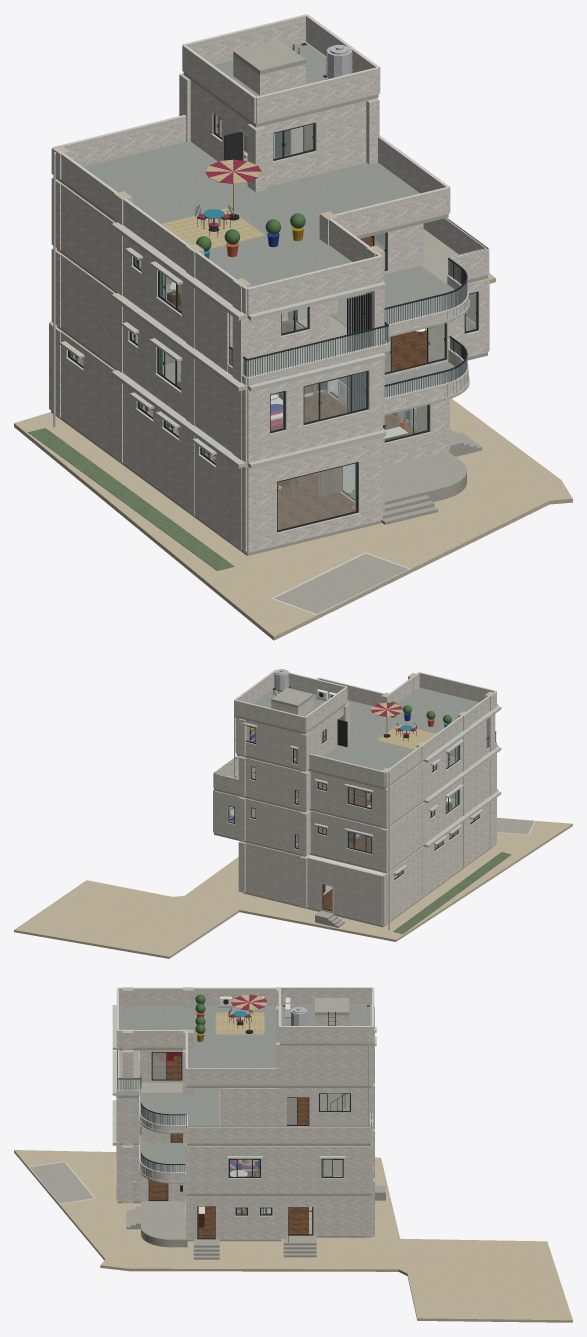
The model's file is eclectic.glb.
The picture shows the model from 3 angles, top to bottom: view 1: azimuth 30°, elevation 25°; view 2: azimuth 150°, elevation 25°; view 3: azimuth 270°, elevation 25°; orthographic projection. The views are drawn at different scales.
Visible parts, largest first — view 1: SITE_site_ground, FLOOR_1_wall_facade, FLOOR_4_floor_finish_terrace, FLOOR_2_wall_facade, FLOOR_4_parapet_facade, FLOOR_3_wall_facade, ROOF_parapet_facade, SITE_site_porch, FLOOR_4_wall_facade, FLOOR_1_window_glass, FLOOR_3_railing_metal, FLOOR_3_parapet_facade (+36 smaller); view 2: SITE_site_ground, FLOOR_1_wall_facade, FLOOR_2_wall_facade, FLOOR_3_wall_facade, FLOOR_4_floor_finish_terrace, FLOOR_4_parapet_facade, ROOF_parapet_facade, FLOOR_4_wall_facade, FLOOR_2_column_facade, FLOOR_3_column_facade, FLOOR_1_column_facade, FLOOR_4_column_facade (+22 smaller); view 3: SITE_site_ground, FLOOR_2_wall_facade, FLOOR_1_wall_facade, FLOOR_4_floor_finish_terrace, SITE_site_porch, FLOOR_3_wall_facade, FLOOR_4_parapet_facade, FLOOR_4_wall_facade, FLOOR_3_parapet_facade, ROOF_parapet_facade, FLOOR_3_floor_finish_terrace, FLOOR_3_slab_slab (+24 smaller).
Boxes of the visible parts, x1,y1,x2,y2 form: SITE_site_ground: [14, 273, 572, 640]; FLOOR_1_wall_facade: [49, 322, 449, 552]; FLOOR_4_floor_finish_terrace: [83, 141, 419, 286]; FLOOR_2_wall_facade: [61, 255, 489, 462]; FLOOR_4_parapet_facade: [53, 116, 450, 314]; FLOOR_3_wall_facade: [61, 184, 423, 371]; ROOF_parapet_facade: [182, 16, 380, 123]; SITE_site_porch: [274, 429, 482, 615]; FLOOR_4_wall_facade: [190, 80, 377, 186]; FLOOR_1_window_glass: [70, 352, 427, 529]; FLOOR_3_railing_metal: [229, 218, 487, 377]; FLOOR_3_parapet_facade: [228, 218, 489, 385]; SITE_site_ground: [14, 821, 572, 958]; FLOOR_1_wall_facade: [245, 798, 496, 925]; FLOOR_2_wall_facade: [213, 753, 496, 869]; FLOOR_3_wall_facade: [245, 720, 486, 825]; FLOOR_4_floor_finish_terrace: [323, 687, 479, 770]; FLOOR_4_parapet_facade: [235, 673, 496, 787]; ROOF_parapet_facade: [234, 672, 347, 732]; FLOOR_4_wall_facade: [235, 707, 343, 768]; FLOOR_2_column_facade: [238, 755, 495, 872]; FLOOR_3_column_facade: [238, 714, 495, 827]; FLOOR_1_column_facade: [238, 799, 495, 923]; FLOOR_4_column_facade: [238, 674, 495, 787]; SITE_site_ground: [14, 1150, 572, 1322]; FLOOR_2_wall_facade: [116, 1095, 372, 1193]; FLOOR_1_wall_facade: [116, 1145, 364, 1239]; FLOOR_4_floor_finish_terrace: [119, 1005, 275, 1068]; SITE_site_porch: [30, 1162, 385, 1259]; FLOOR_3_wall_facade: [140, 1050, 364, 1126]; FLOOR_4_parapet_facade: [116, 988, 281, 1085]; FLOOR_4_wall_facade: [280, 1045, 372, 1085]; FLOOR_3_parapet_facade: [116, 1050, 372, 1143]; ROOF_parapet_facade: [278, 988, 374, 1043]; FLOOR_3_floor_finish_terrace: [142, 1088, 219, 1126]; FLOOR_3_slab_slab: [117, 1051, 371, 1145].
Size of the model in its own units: 26.38 by 16.92 by 36.59.
56 materials, 28 textured.
